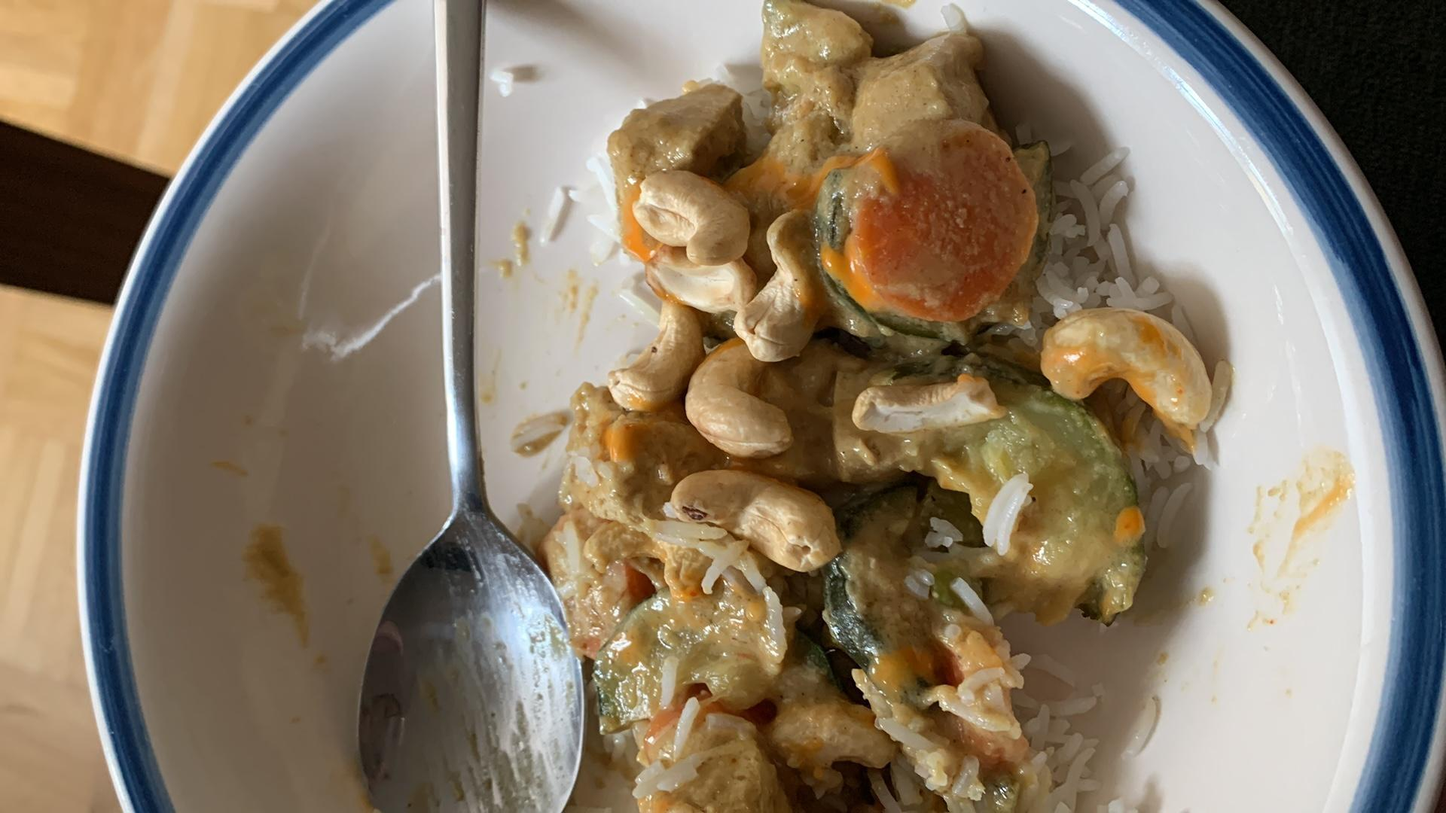carrot: (809, 118, 1020, 319)
vegetable marrow: (830, 355, 1166, 615), (590, 587, 801, 726), (825, 477, 940, 700)
